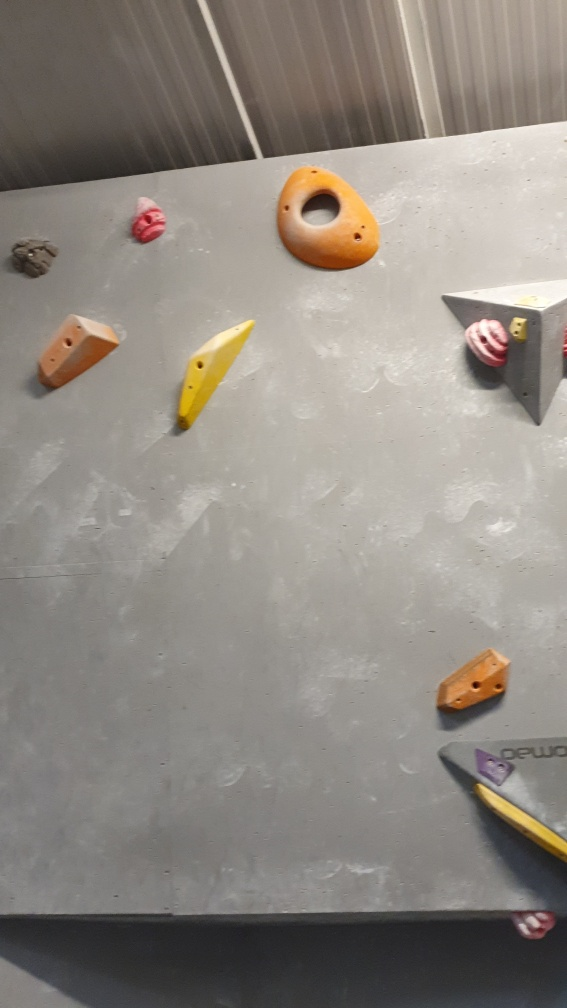Jug: (121, 196, 171, 247), (465, 318, 508, 377), (10, 235, 60, 279)
Pinch: (173, 312, 257, 434), (31, 310, 122, 400), (432, 643, 512, 717)
Pocket: (272, 164, 382, 273)
